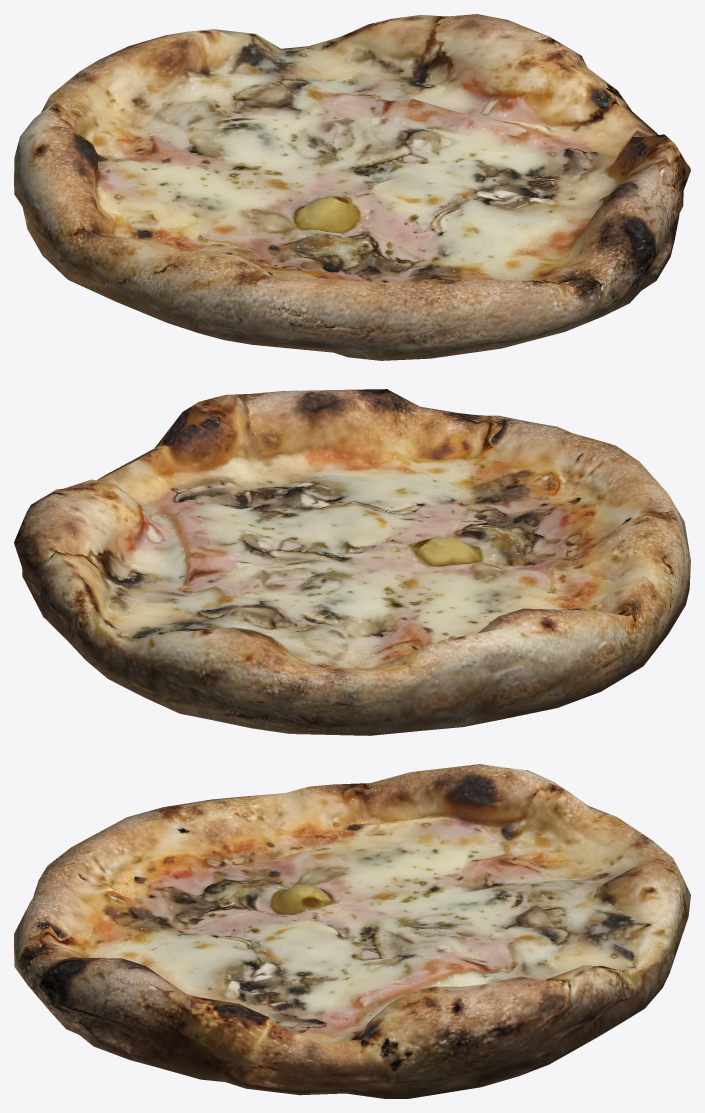
The picture shows the model from 3 angles, top to bottom: view 1: azimuth 30°, elevation 25°; view 2: azimuth 150°, elevation 25°; view 3: azimuth 270°, elevation 25°; orthographic projection. The views are drawn at different scales.
Visible parts, largest first — view 1: PizzaLP.002; view 2: PizzaLP.002; view 3: PizzaLP.002.
Part boxes in pixels (<box>): PizzaLP.002: <box>14,14,690,360</box>; PizzaLP.002: <box>14,389,690,735</box>; PizzaLP.002: <box>14,764,690,1098</box>.
Bounding box in the file's own units: 0.1954 × 0.0321 × 0.206.
Materials: 1 (1 with a texture image).
